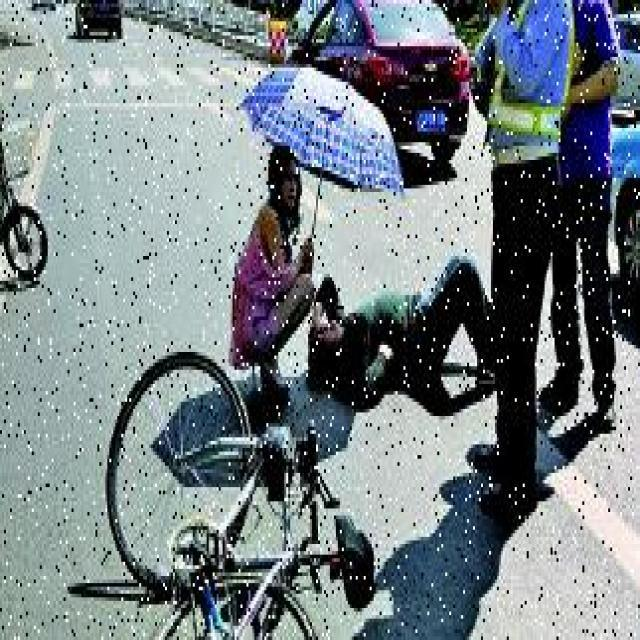fall: (312, 234, 489, 398)
